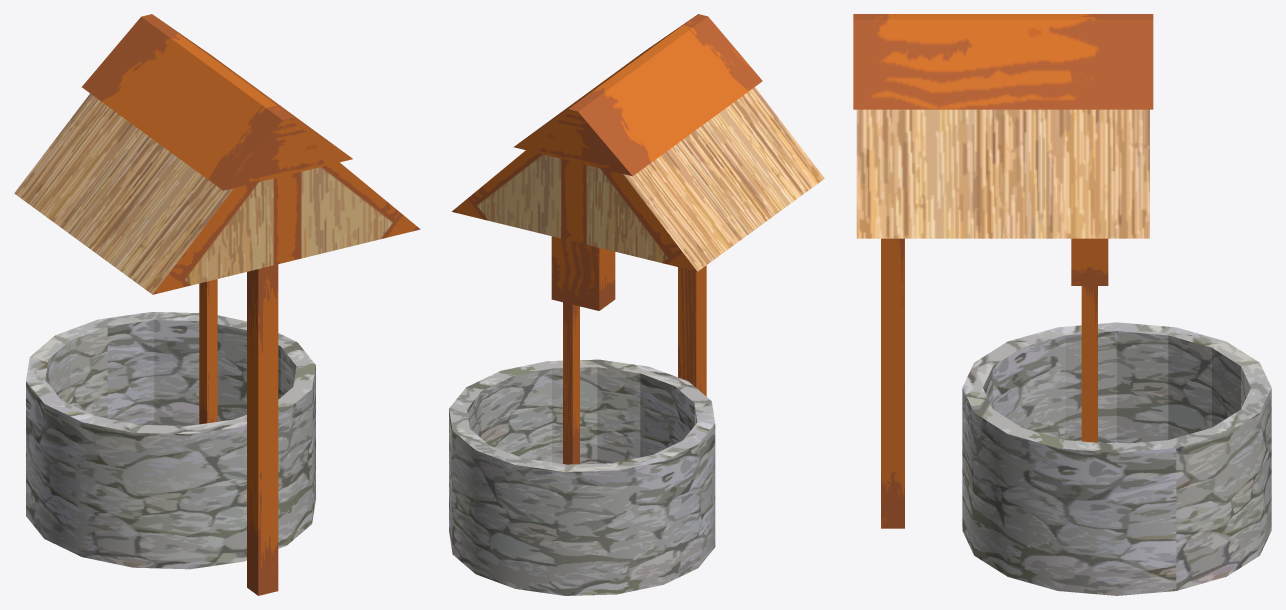
Rendered from Obj10_Ido.fbx.
3 views of the same model, side by side, from view 1: azimuth 30°, elevation 25°; view 2: azimuth 150°, elevation 25°; view 3: azimuth 270°, elevation 25° (orthographic). The views are drawn at different scales.
Parts seen in each view (by area): view 1: Obj10_Ido; view 2: Obj10_Ido; view 3: Obj10_Ido.
Boxes of the visible parts, box(x1,y1,x2,y2) form: Obj10_Ido: box(14, 14, 420, 595); Obj10_Ido: box(449, 14, 824, 595); Obj10_Ido: box(853, 14, 1271, 595).
Size of the model in its own units: 0.7297 by 1.25 by 0.9319.
